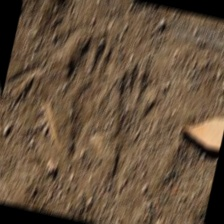rat: (91, 59, 166, 162)
